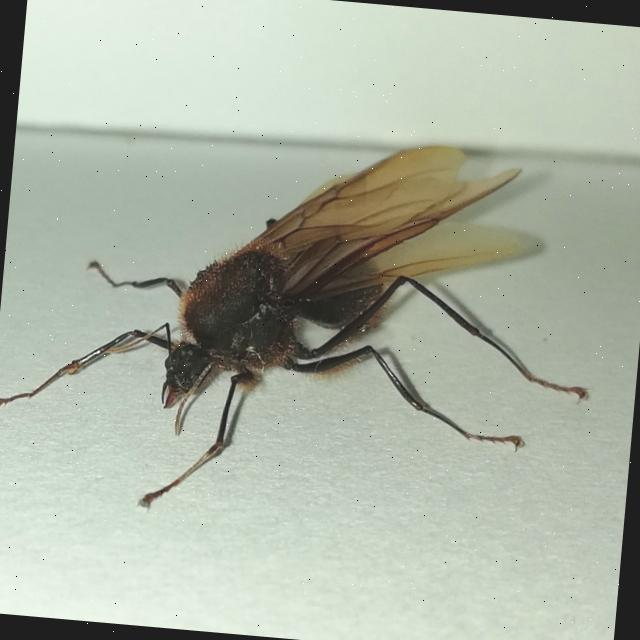Alive-Female-Alate: (0, 105, 613, 550)
